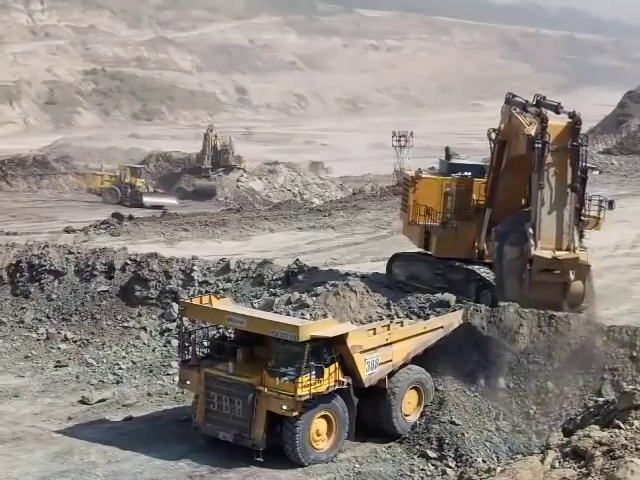dumper: (176, 290, 465, 463)
excavator: (386, 93, 615, 319), (193, 126, 241, 200)
wheel loader: (90, 164, 179, 210)
